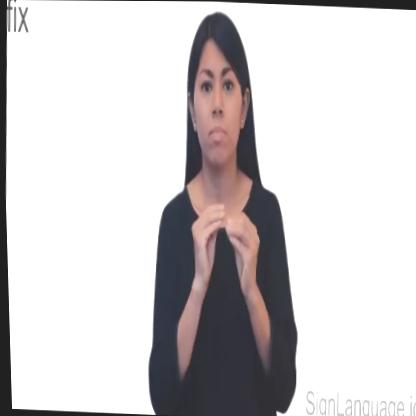Fix: (137, 3, 310, 416)
